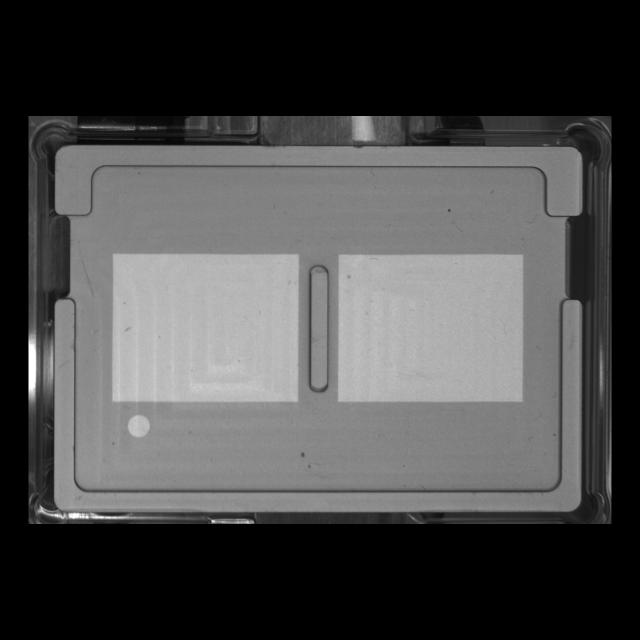door: (45, 132, 593, 230)
point: (125, 411, 153, 441)
